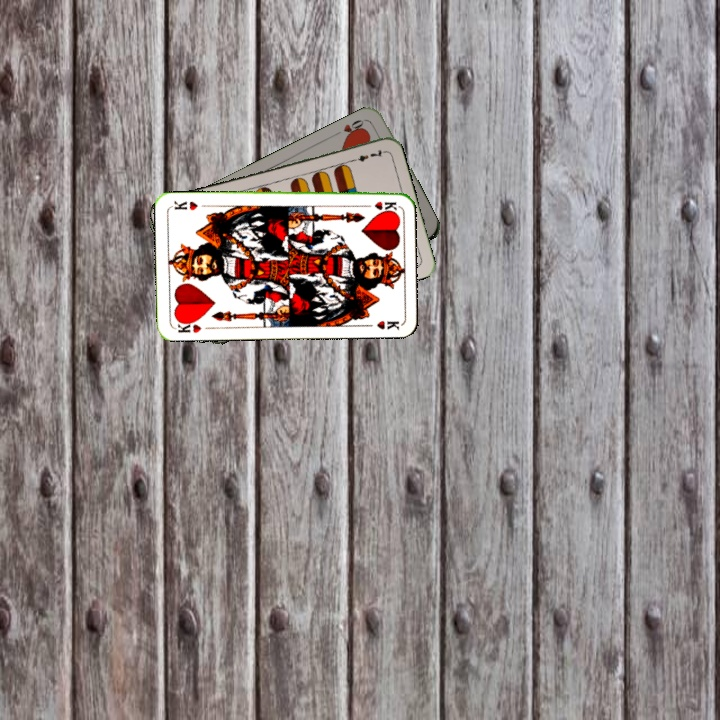E7: (347, 146, 387, 165)
HK: (358, 197, 399, 212), (173, 316, 203, 336)
HO: (331, 115, 370, 142)
